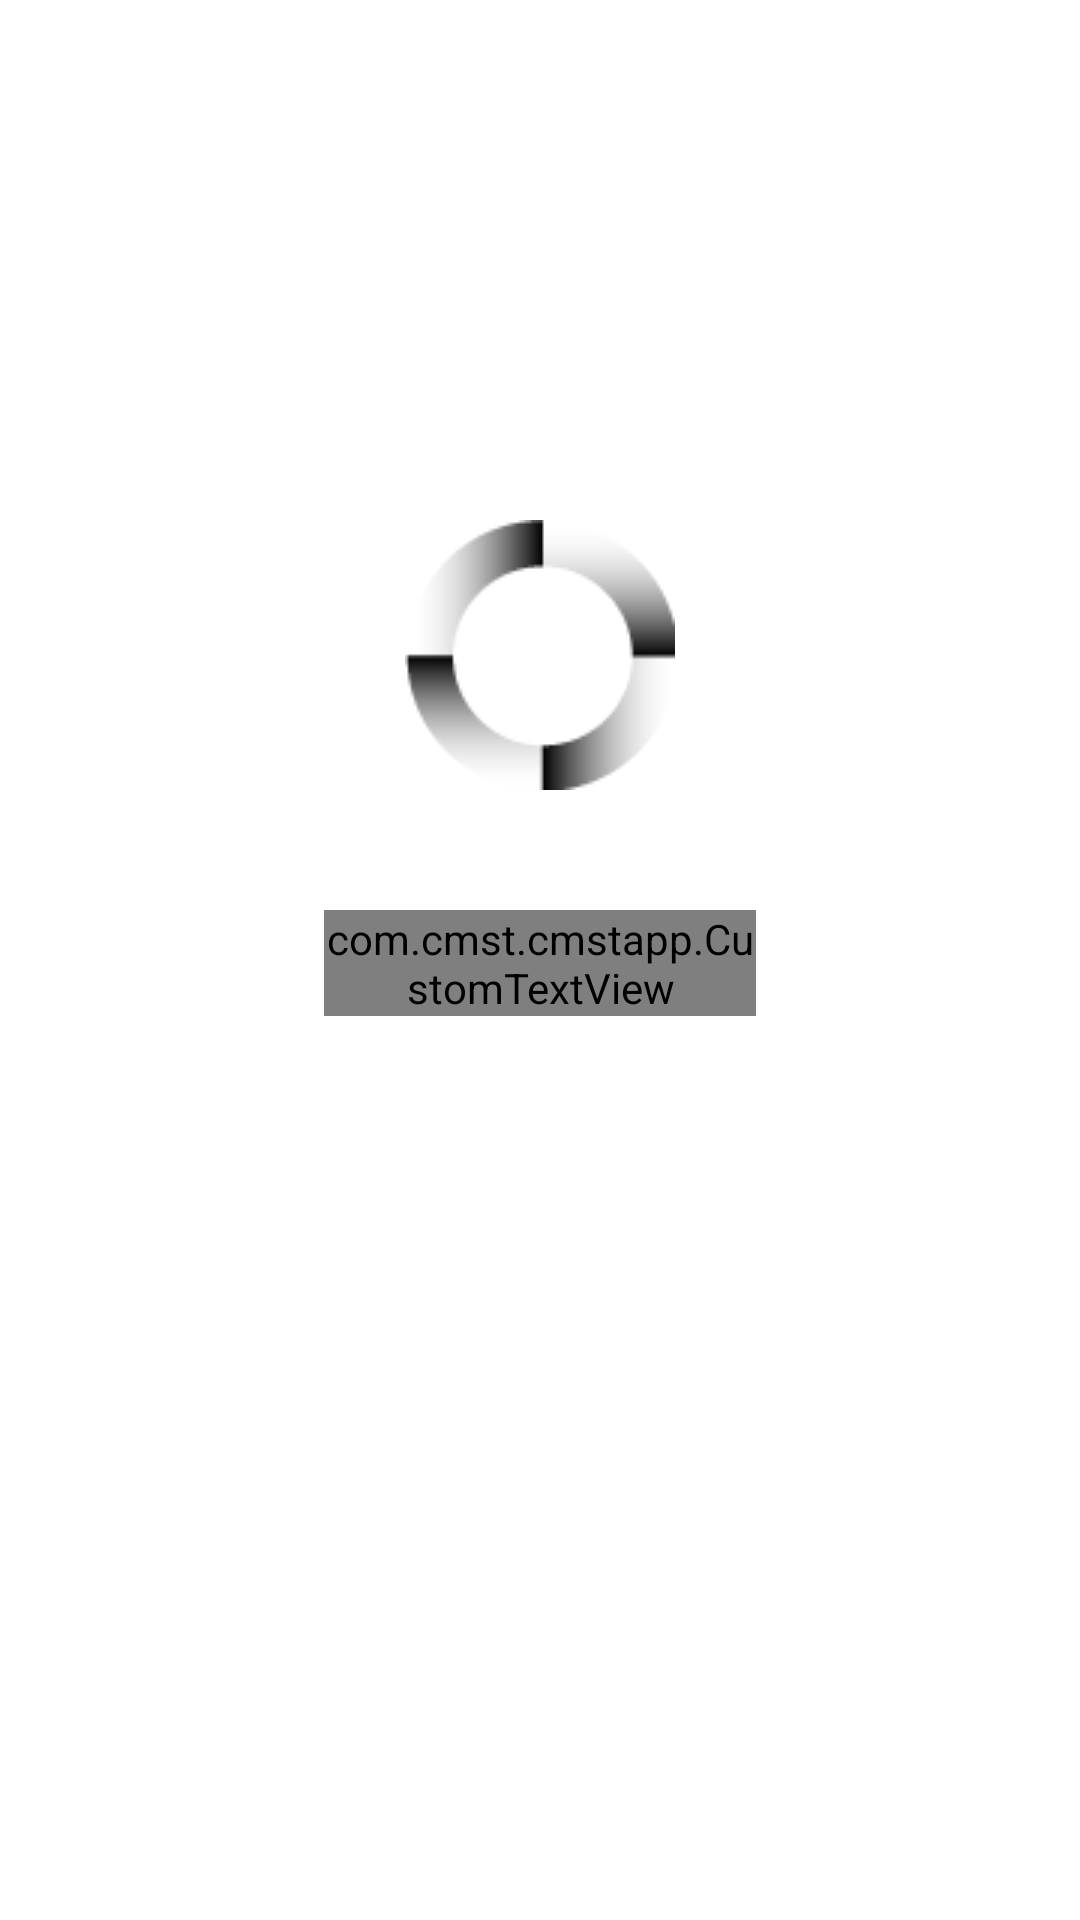

Where icons sit on this 1080x1920 app screen, as {"left": x1, "top": y1, "right": x2, "bottom": y2}:
loading: {"left": 405, "top": 520, "right": 675, "bottom": 790}
